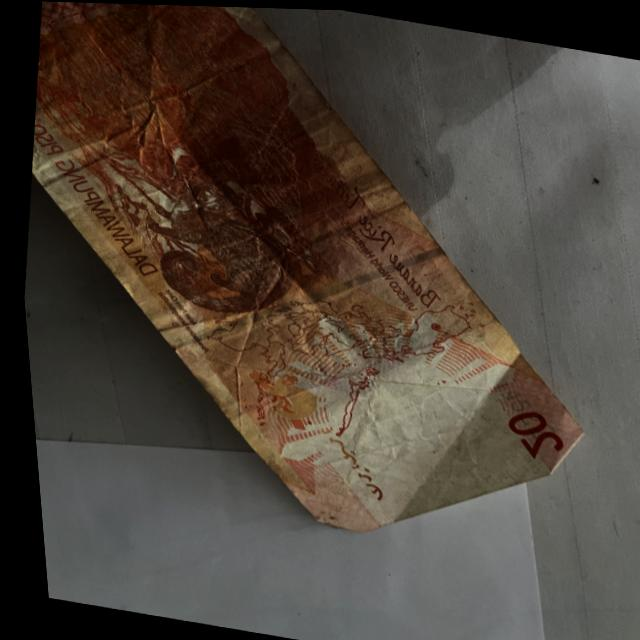20_civet: (137, 166, 310, 331)
20_civet_watermark: (242, 363, 324, 428)
